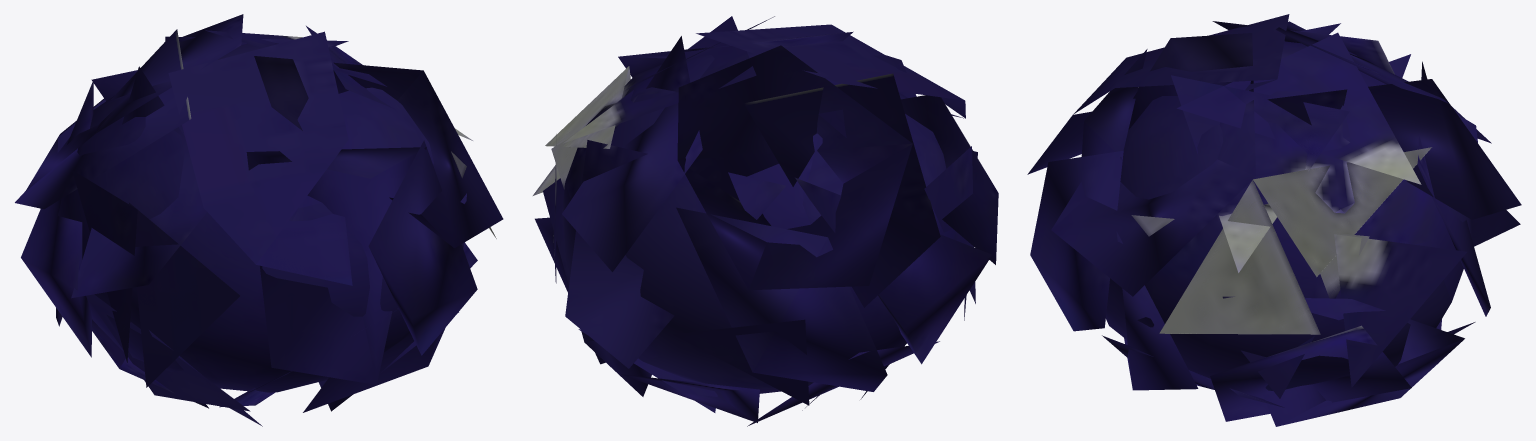
Rendered from bush.glb.
3 views of the same model, side by side, from view 1: azimuth 30°, elevation 25°; view 2: azimuth 150°, elevation 25°; view 3: azimuth 270°, elevation 25° (orthographic).
Size of the model in its own units: 0.9487 by 0.7373 by 0.9551.
1 material, 1 textured.
